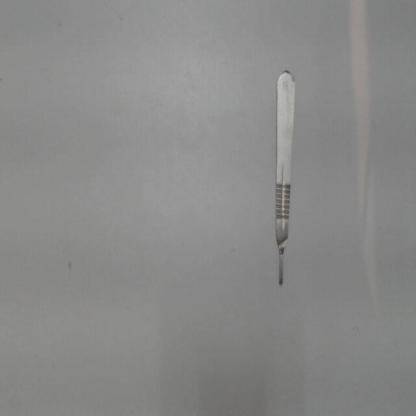No.3 BP Handle: (267, 66, 297, 295)
